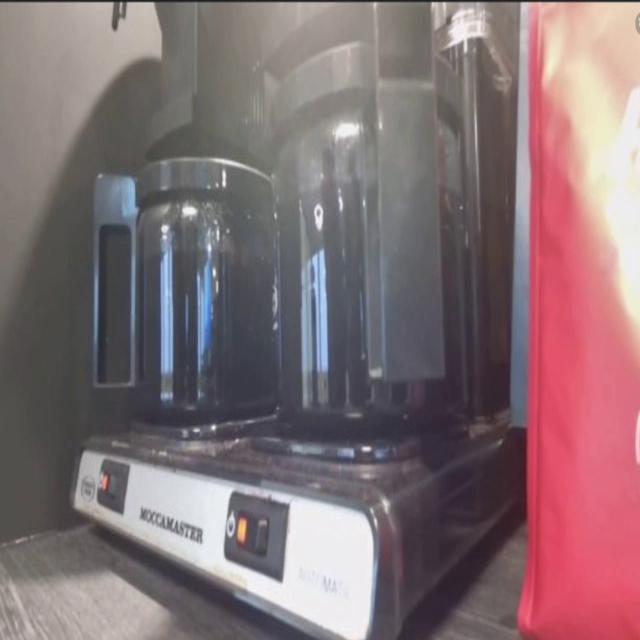coffee: (279, 163, 462, 426), (137, 213, 276, 414)
